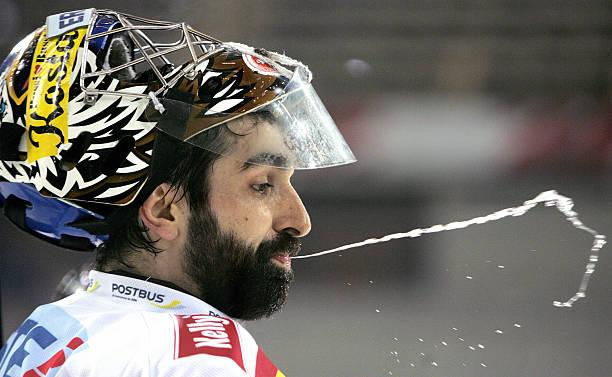Spitting: (103, 0, 398, 291)
